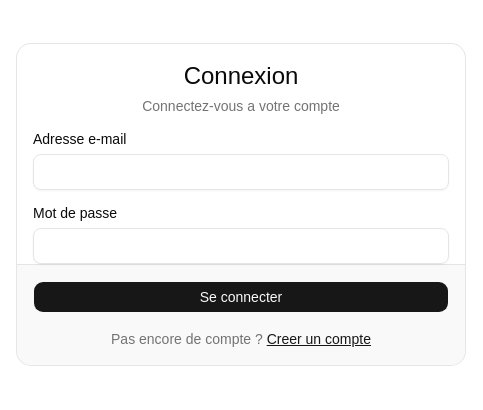
it: Page Login › affiche une erreur 401 si identifiants incorrects
This screenshot has width=483, height=410.
Type "bad@test.com" into the field labelled "Adresse e-mail" at (241, 172), box [33, 154, 449, 190]
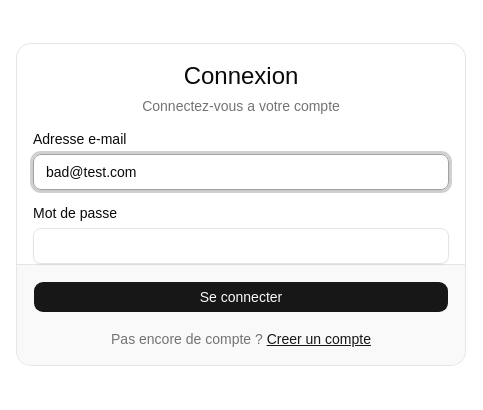
Type "wrongpass" into the password field labelled "Mot de passe" at (241, 246), box [33, 228, 449, 264]
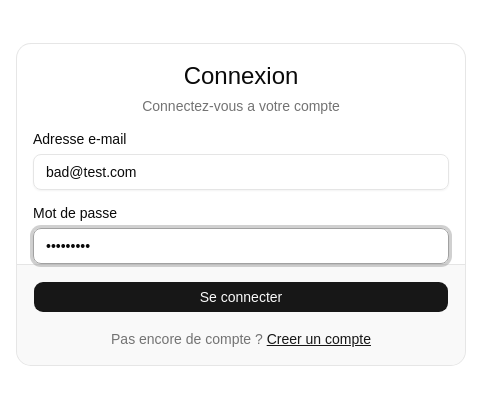
Click the button "Se connecter" at (241, 296), box [33, 280, 449, 312]
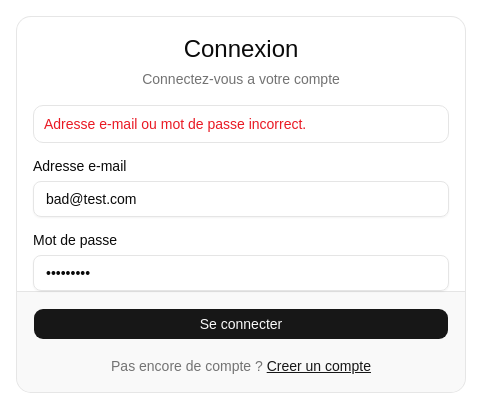
Expected: the text "Adresse e-mail ou mot de passe incorrect." is shown, [44, 116, 306, 132]
